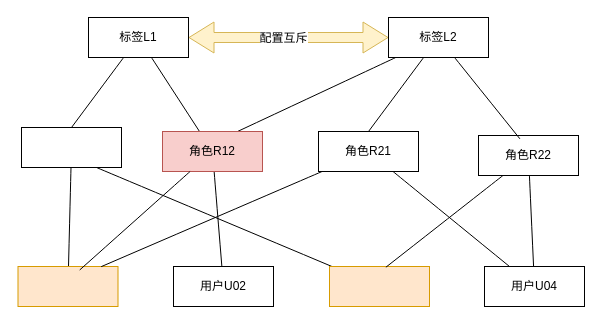
Some shapes in this 602 by 324 pixel diagram are drawn without their labels. The shapes that lost their labels are listed below. From the top down, each one's box as (x1, y1, x2, y2) in pixels, then its label:
(20, 126, 122, 168): 角色R11
(17, 266, 118, 306): 用户U01
(328, 266, 430, 306): 用户U03
